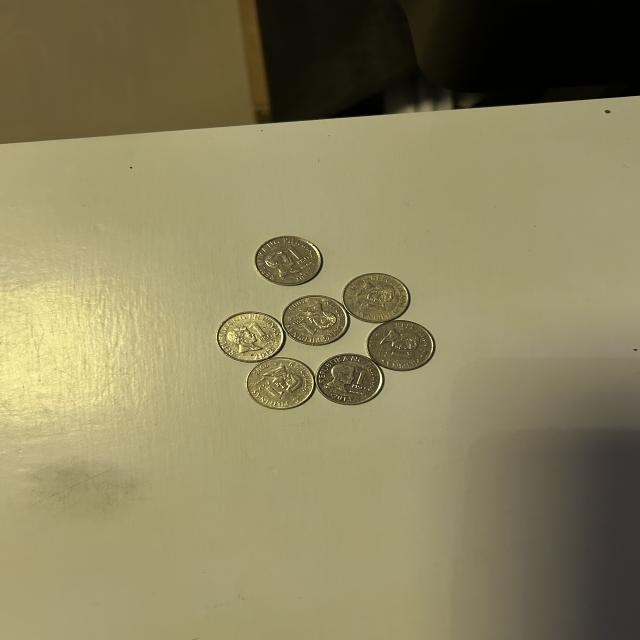1_Old_Front: (243, 320, 277, 346), (382, 340, 417, 364), (283, 245, 313, 269), (288, 316, 319, 338), (254, 382, 285, 403), (360, 298, 390, 317), (355, 368, 370, 395)
